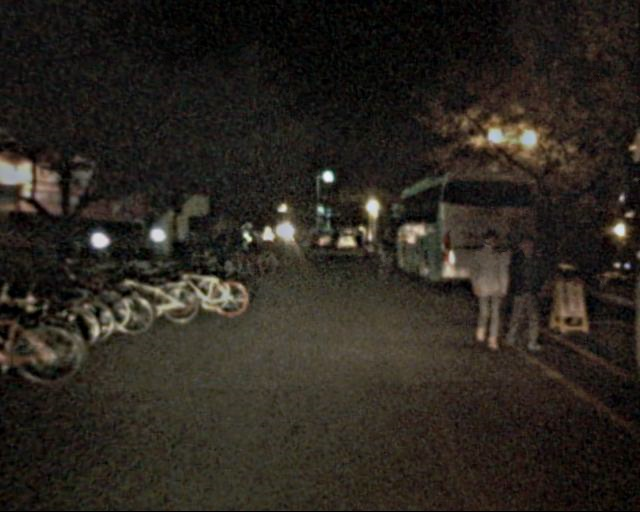person: (465, 232, 513, 350), (502, 236, 549, 351), (374, 227, 399, 288), (249, 230, 264, 266)
